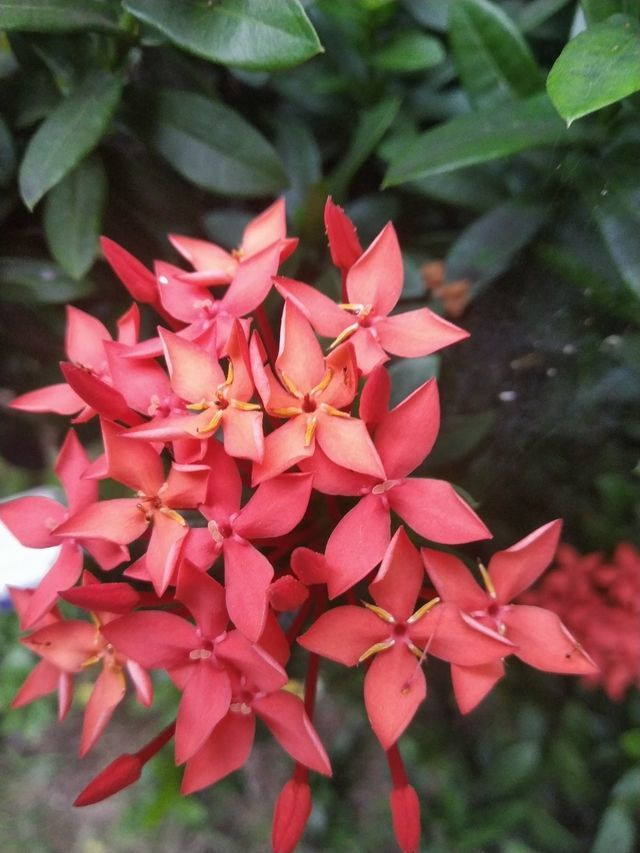ixora: (314, 534, 473, 757), (316, 404, 484, 572), (429, 531, 586, 696), (124, 577, 270, 740), (282, 235, 465, 360), (178, 446, 303, 626), (86, 428, 190, 601), (143, 330, 266, 453)
